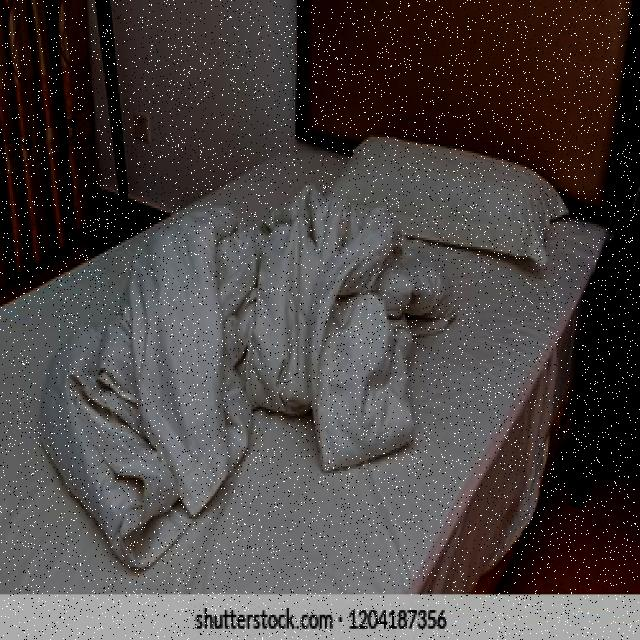bed: (0, 94, 604, 585)
